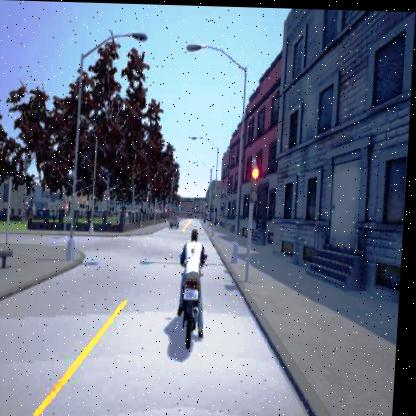motobike: (177, 223, 212, 354)
vehicle: (171, 210, 181, 227)
